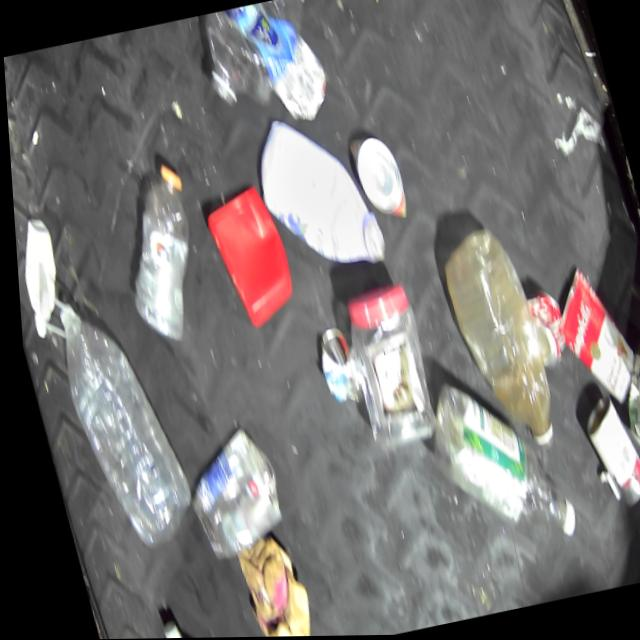can: (169, 426, 286, 563), (570, 393, 640, 514), (343, 128, 409, 228), (513, 288, 569, 373), (615, 386, 640, 467)
milk_jug: (241, 106, 387, 283), (617, 497, 640, 583)
plastic_bottle: (40, 292, 195, 557), (406, 366, 573, 562), (98, 159, 217, 347), (191, 0, 326, 114)
